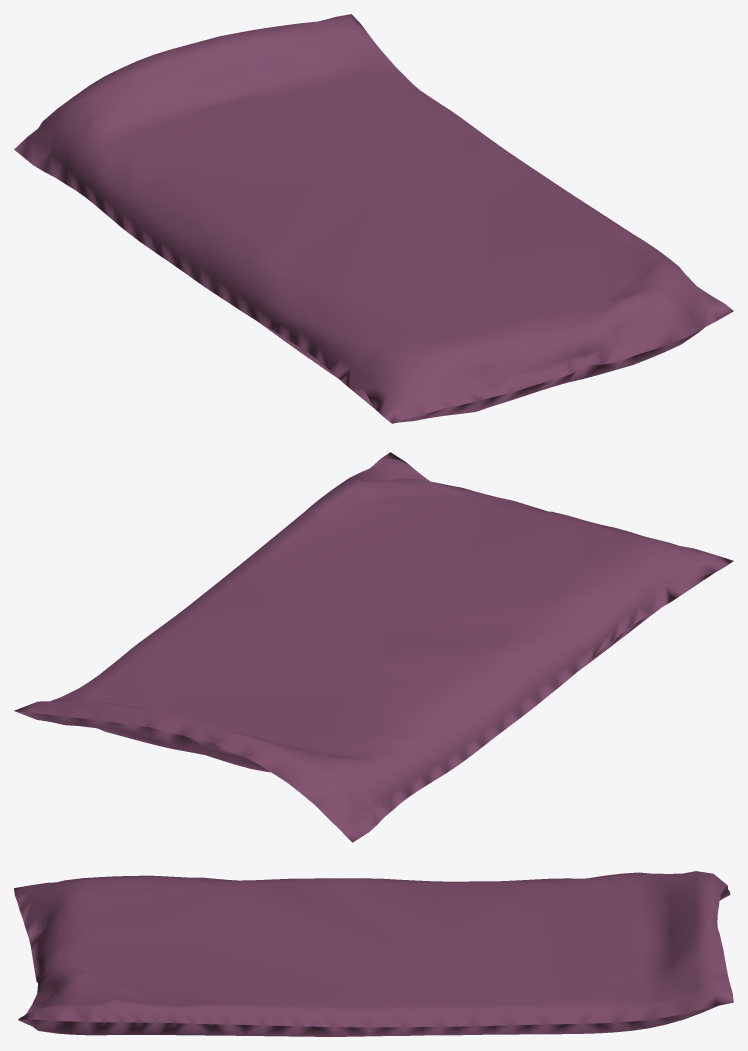
Rendered from BedA_SheetA.FBX.
3 renders of one model, top to bottom at view 1: azimuth 30°, elevation 25°; view 2: azimuth 150°, elevation 25°; view 3: azimuth 270°, elevation 25°, orthographic. The views are drawn at different scales.
Parts seen in each view (by area): view 1: SheetA; view 2: SheetA; view 3: SheetA.
Part boxes in pixels (bbox=[...]): SheetA: bbox=[14, 14, 733, 423]; SheetA: bbox=[14, 452, 733, 842]; SheetA: bbox=[14, 871, 733, 1036].
Size of the model in its own units: 31.51 by 7.75 by 60.62.
